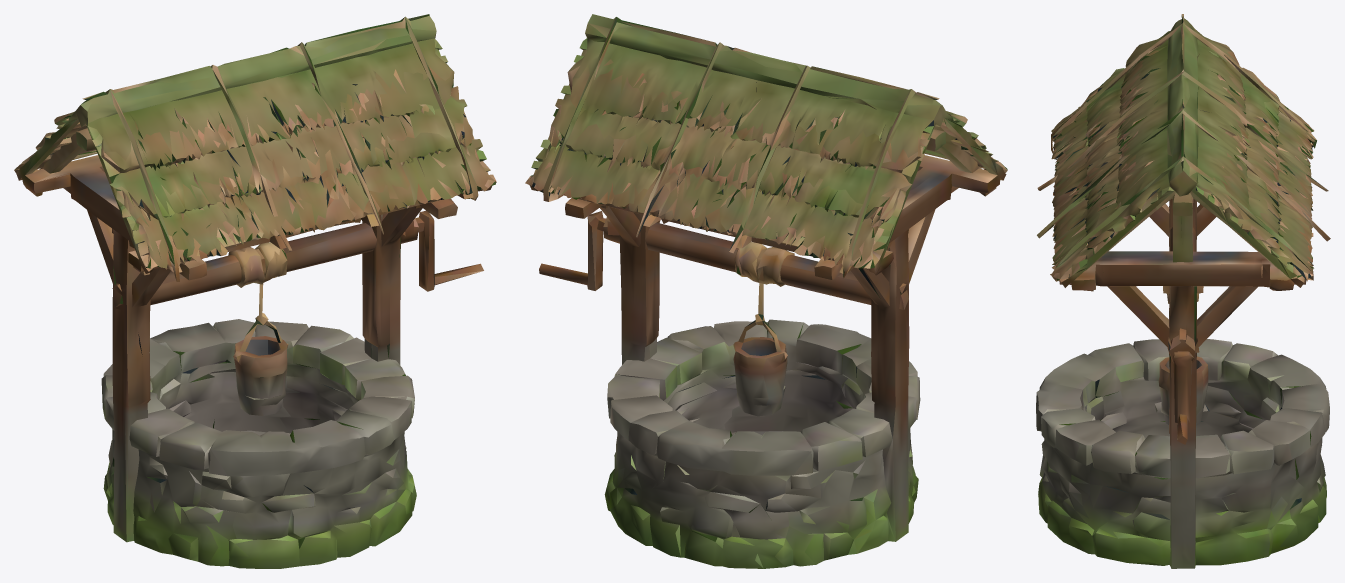
The model's file is WellThatched.glb.
3 renders of one model, left to right at view 1: azimuth 30°, elevation 25°; view 2: azimuth 150°, elevation 25°; view 3: azimuth 270°, elevation 25°, orthographic. The views are drawn at different scales.
Parts seen in each view (by area): view 1: WellThatched; view 2: WellThatched; view 3: WellThatched.
Boxes of the visible parts, <box> form: WellThatched: <box>14,14,496,568</box>; WellThatched: <box>525,14,1007,568</box>; WellThatched: <box>1036,14,1330,568</box>.
Size of the model in its own units: 3.36 by 3.59 by 2.3.
1 material, 1 textured.
